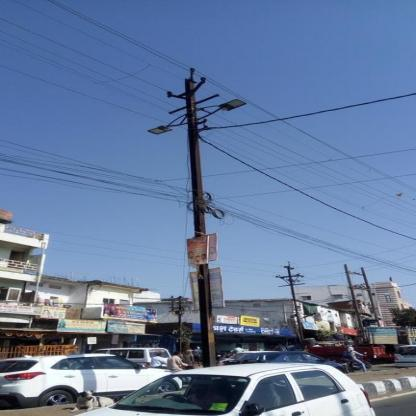Electrical Pole: (141, 66, 258, 368)
